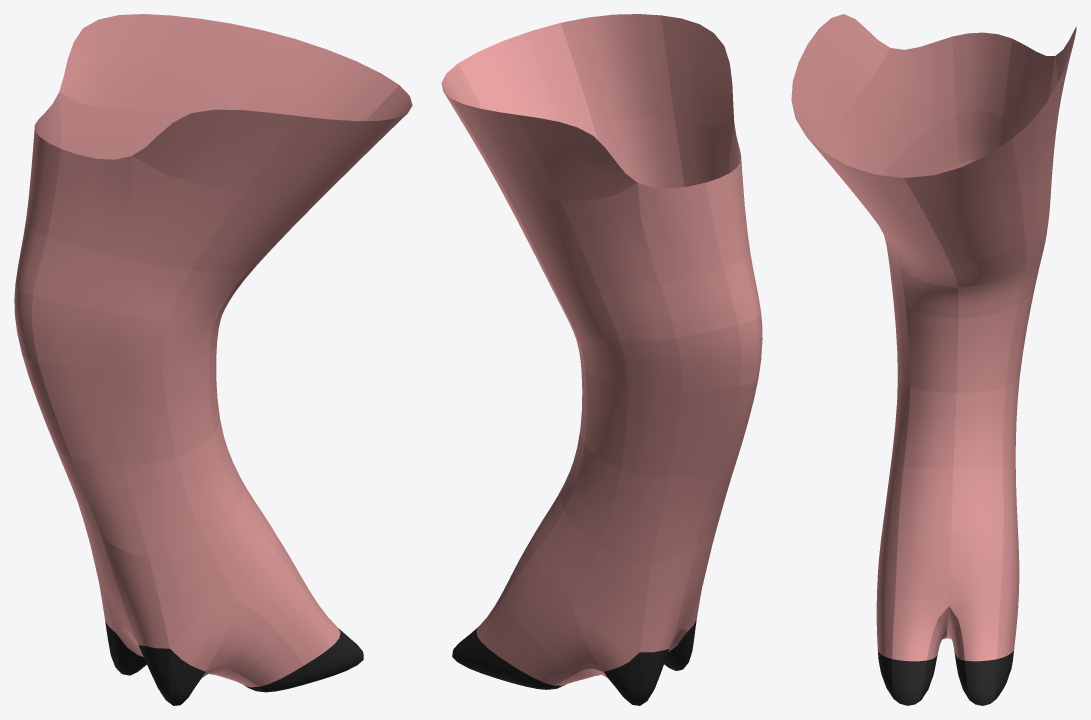
The model's file is B_pig.fbx.
The picture shows the model from 3 angles, left to right: view 1: azimuth 30°, elevation 25°; view 2: azimuth 150°, elevation 25°; view 3: azimuth 270°, elevation 25°; orthographic projection. The views are drawn at different scales.
Visible parts, largest first — view 1: PIGback.001; view 2: PIGback.001; view 3: PIGback.001.
Boxes of the visible parts, x1=… form: PIGback.001: x1=14, y1=14, x2=412, y2=705; PIGback.001: x1=441, y1=14, x2=762, y2=705; PIGback.001: x1=791, y1=14, x2=1076, y2=705.
Size of the model in its own units: 84.25 by 113 by 197.
